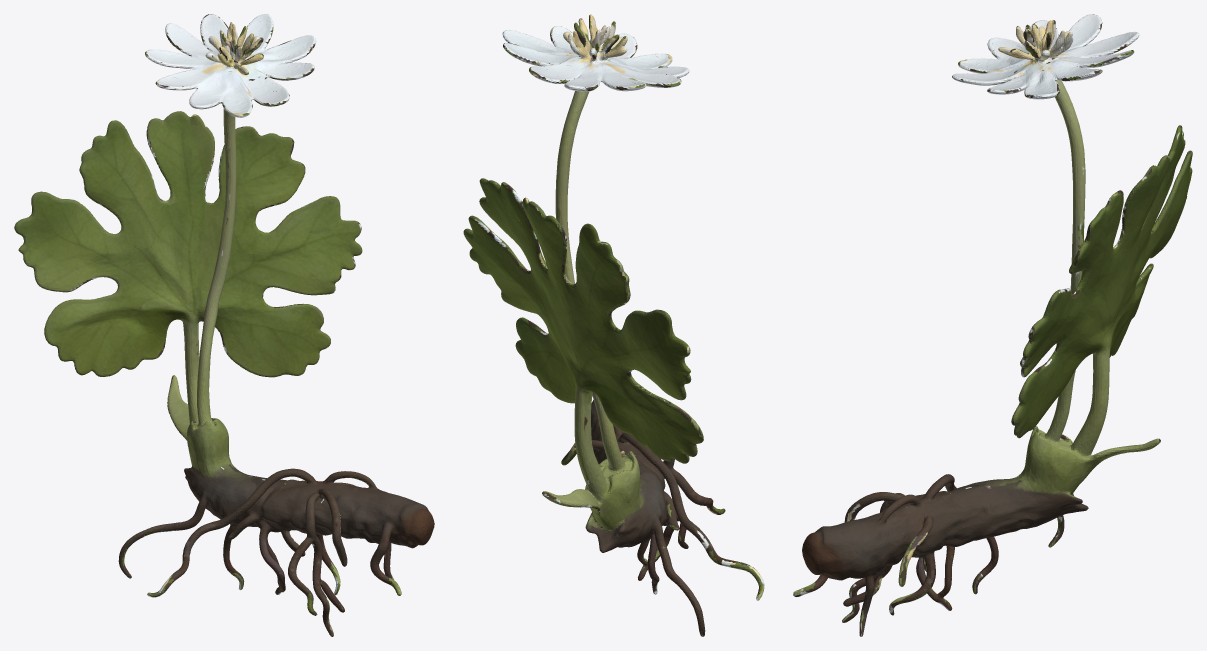
The model's file is Bloodroot.glb.
3 renders of one model, left to right at view 1: azimuth 30°, elevation 25°; view 2: azimuth 150°, elevation 25°; view 3: azimuth 270°, elevation 25°, orthographic. The views are drawn at different scales.
Visible parts, largest first — view 1: world; view 2: world; view 3: world.
Boxes of the visible parts, bbox=[...] form: world: bbox=[14, 14, 434, 636]; world: bbox=[463, 14, 764, 636]; world: bbox=[793, 14, 1192, 636].
Bounding box in the file's own units: 1.06 × 1.99 × 1.21.
Materials: 1 (1 with a texture image).
